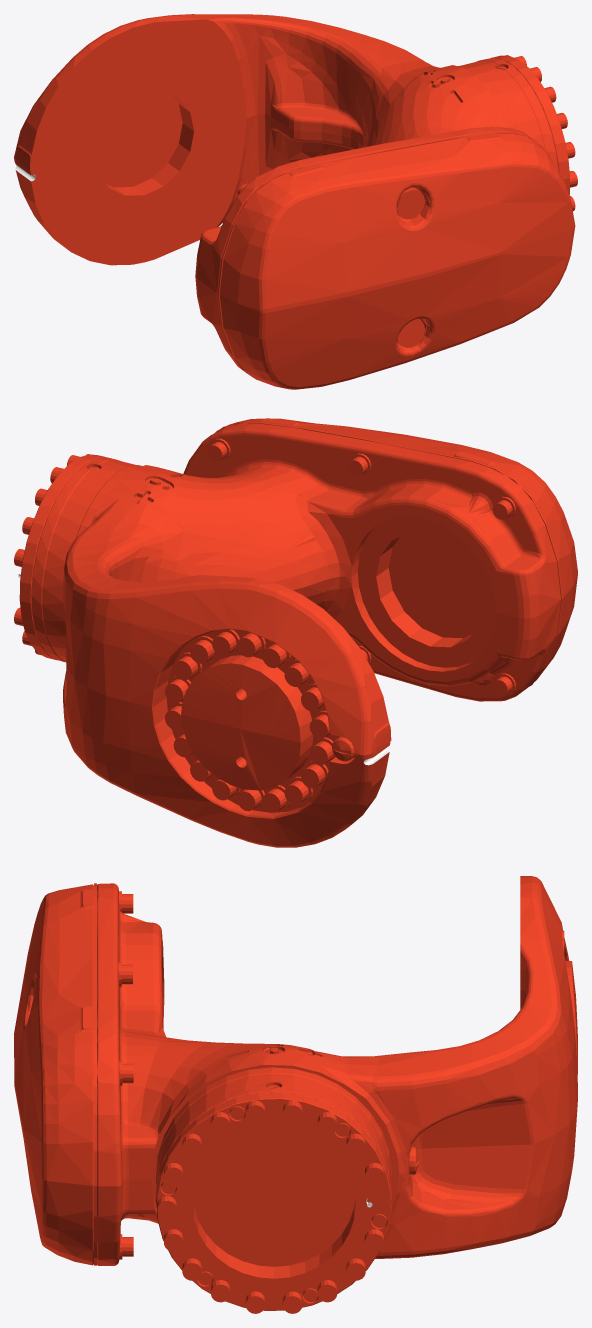
The picture shows the model from 3 angles, top to bottom: view 1: azimuth 30°, elevation 25°; view 2: azimuth 150°, elevation 25°; view 3: azimuth 270°, elevation 25°; orthographic projection. The views are drawn at different scales.
Visible parts, largest first — view 1: link_5; view 2: link_5; view 3: link_5.
Part boxes in pixels (box(x1,y1,x2,y2)): link_5: box(14, 14, 577, 389); link_5: box(14, 418, 577, 847); link_5: box(14, 876, 577, 1313).
Size of the model in its own units: 0.204 by 0.2004 by 0.115.
